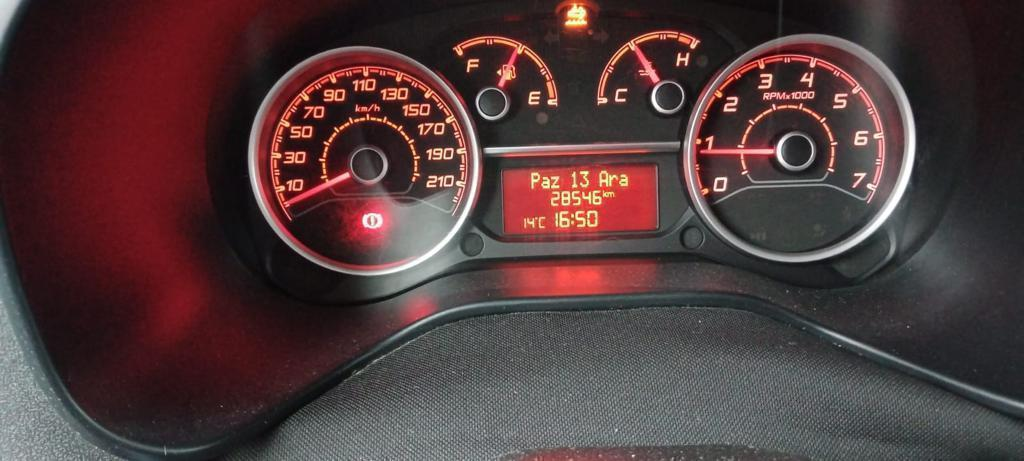0: (587, 209, 598, 227)
1: (570, 168, 578, 187), (554, 210, 558, 229), (522, 216, 527, 229)
2: (550, 190, 559, 206)
3: (579, 168, 590, 187)
4: (581, 190, 591, 205), (527, 216, 534, 228)
5: (574, 209, 586, 228), (571, 189, 581, 206)
6: (559, 209, 569, 228), (592, 189, 601, 205)
8: (560, 189, 570, 206)
X: (530, 171, 540, 190), (598, 169, 608, 187), (618, 173, 629, 186), (550, 174, 560, 188), (608, 173, 618, 186), (541, 176, 550, 188), (538, 215, 546, 228), (570, 212, 574, 226), (607, 191, 615, 198), (602, 189, 606, 198)
odometer: (500, 161, 661, 239)
